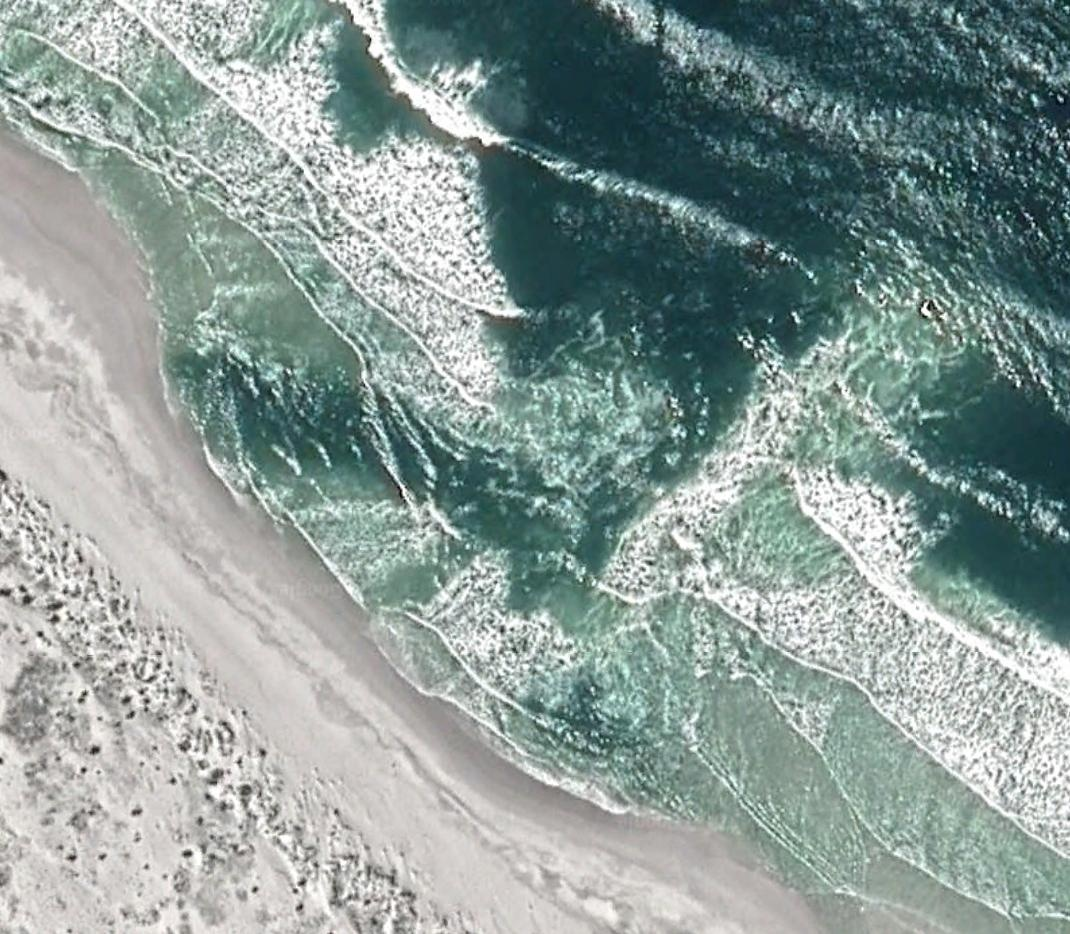rip_current: (251, 340, 837, 581)
